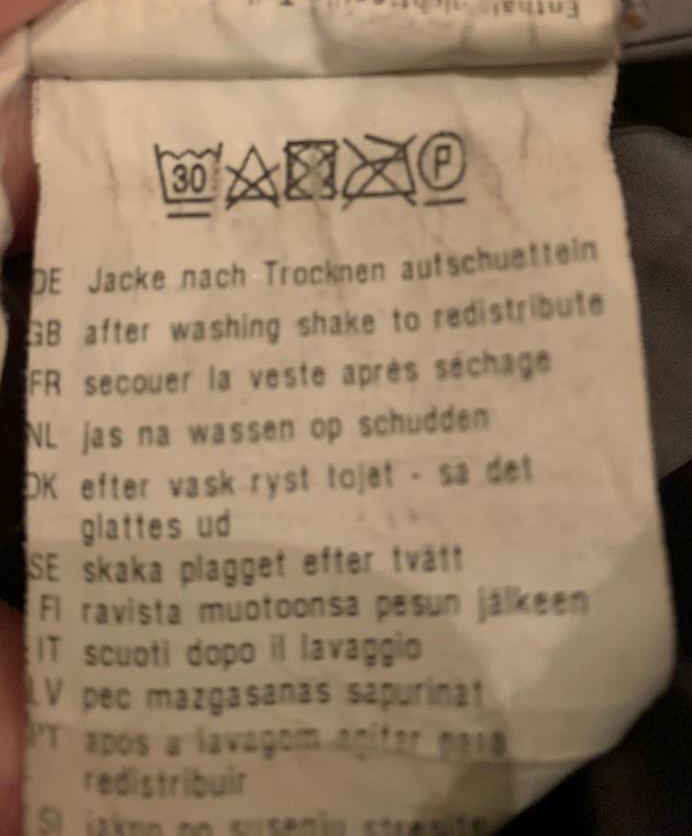do_not_bleach: (221, 140, 283, 210)
do_not_iron: (341, 124, 421, 208)
do_not_tumble_drying: (281, 132, 343, 202)
gentle_cleaning_with_pce: (414, 124, 472, 212)
wash_at_or_below_30_mild_fine_wash: (151, 138, 227, 222)
